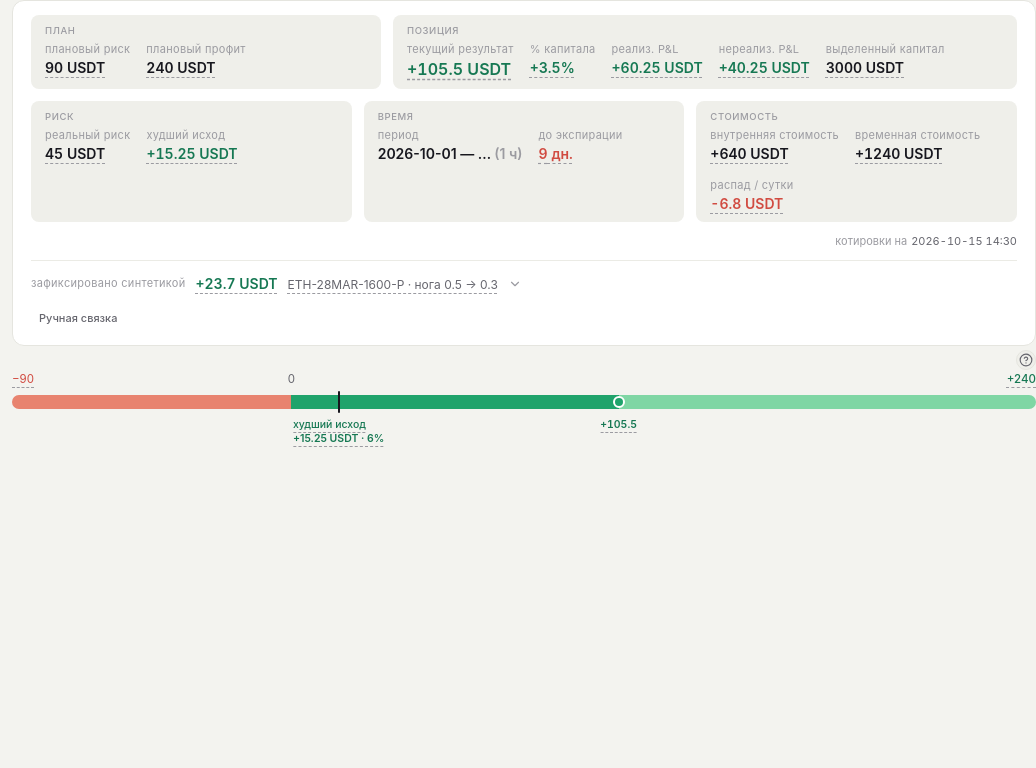
Test case: ConstructionMetricStrip: строка «зафиксировано синтетикой» › раскрытие списка показывает каждую связку и признак спора
Click the button "зафиксировано синтетикой". click: (524, 284)
box: [31,273,1017,294]
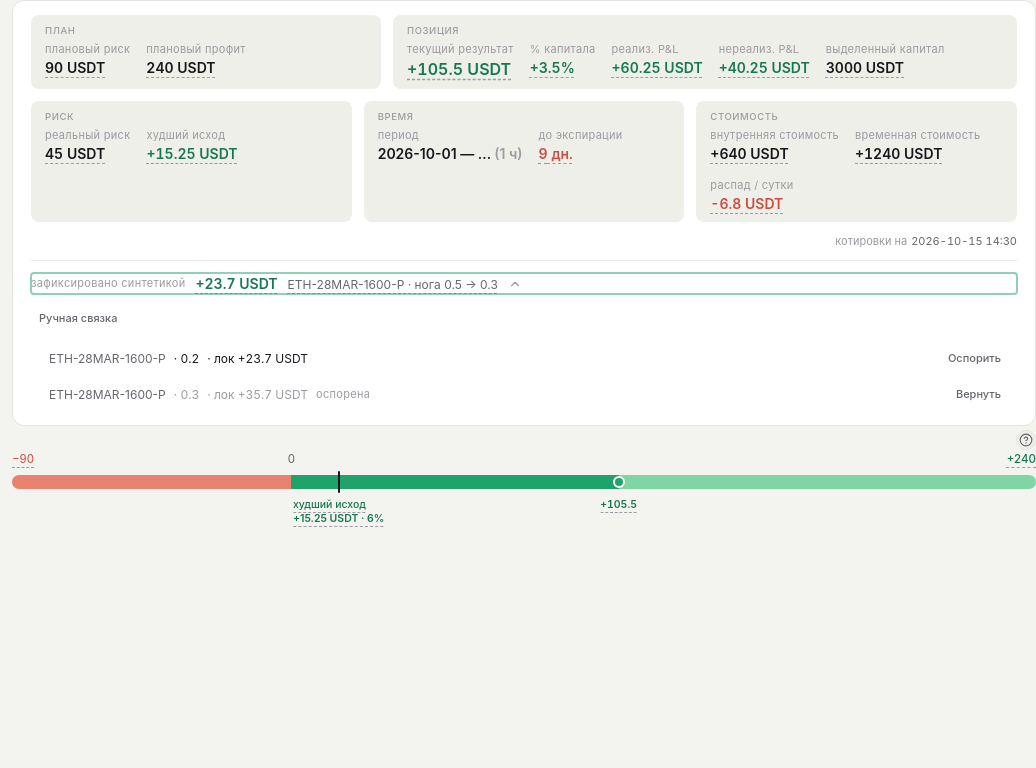
Check: the number of list items is 2, box [41,342,1017,374]; [41,378,1017,410]
Check: the text "ETH-28MAR-1600-P" is shown 2 times, box [49,350,166,368]; [49,386,166,404]
Check: the text "· 0.2" is shown, box [174,350,199,368]
